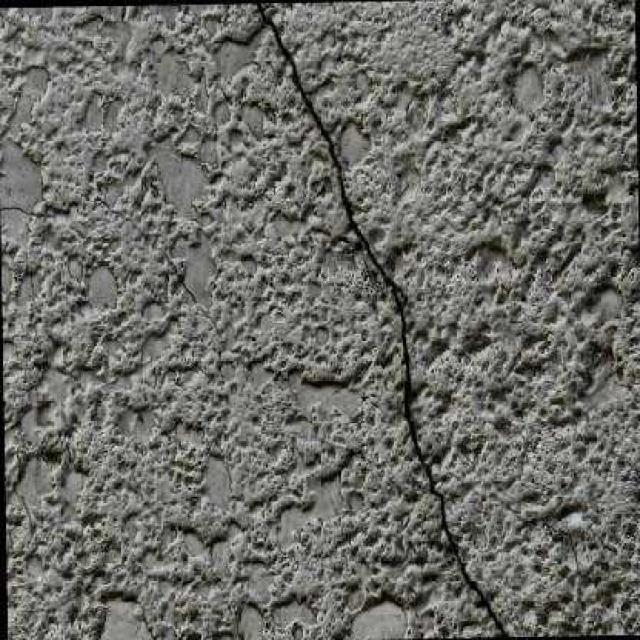D00: (252, 2, 509, 637)
